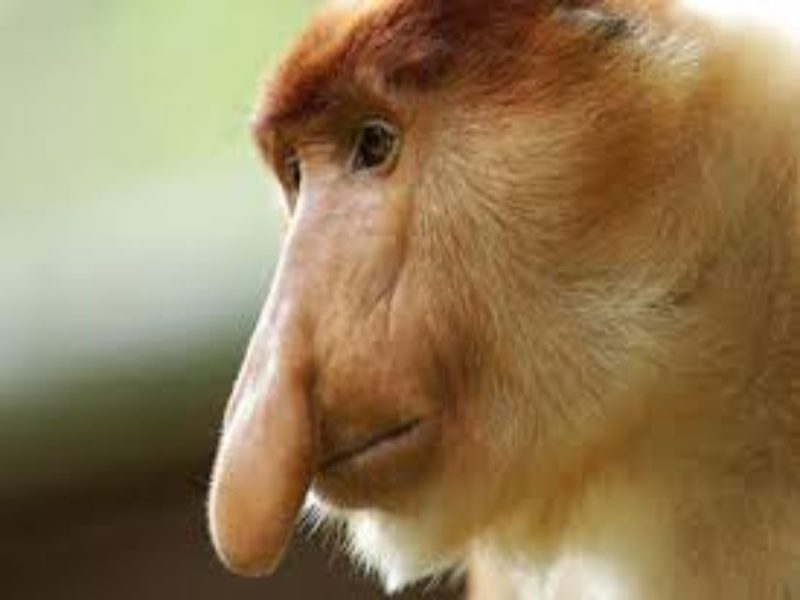monkey: (199, 6, 788, 589)
